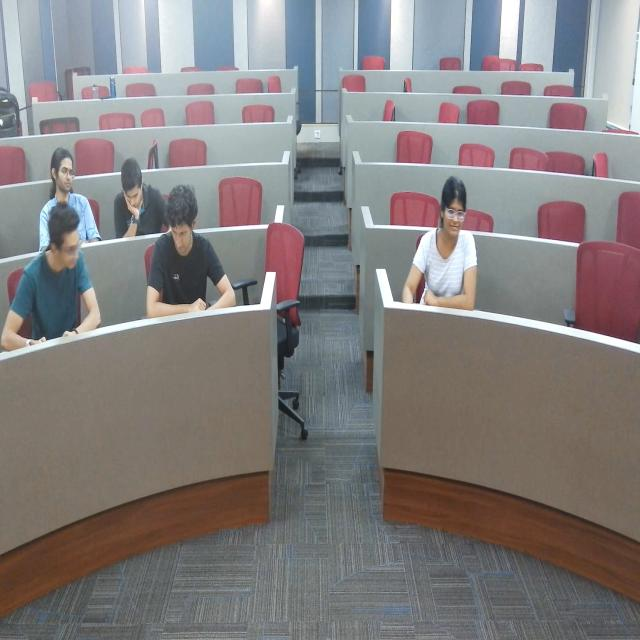cheating: (150, 189, 214, 311), (44, 148, 90, 228)
non-cheating: (112, 142, 156, 258)
